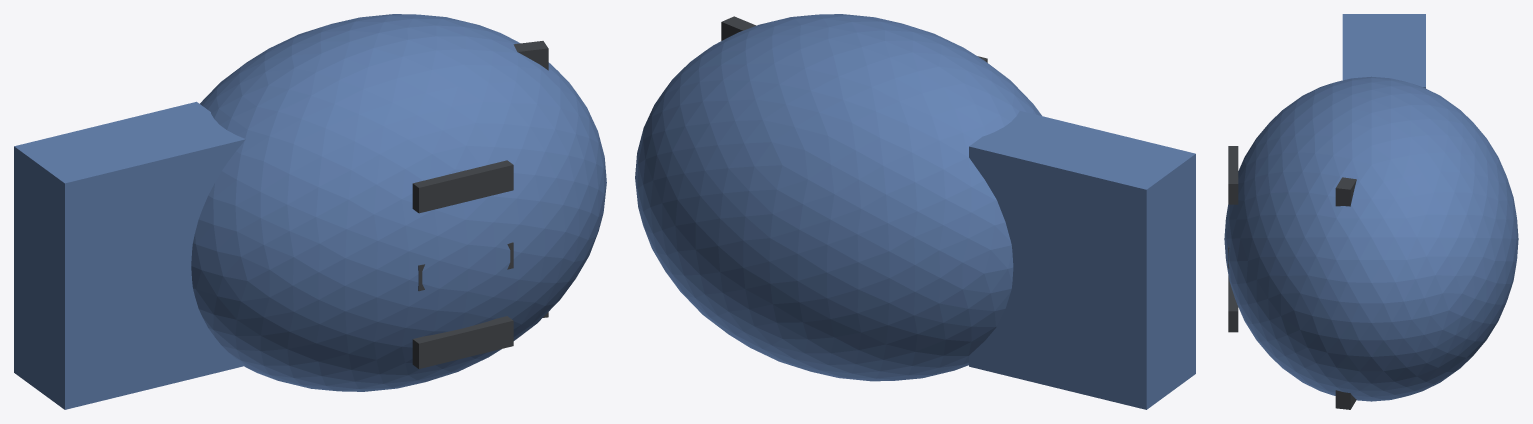
3 renders of one model, left to right at view 1: azimuth 30°, elevation 25°; view 2: azimuth 150°, elevation 25°; view 3: azimuth 270°, elevation 25°, orthographic. The views are drawn at different scales.
Visible parts, largest first — view 1: geometry_0; view 2: geometry_0; view 3: geometry_0.
Part boxes in pixels (x1,y1,x2,y2): geometry_0: (14,14,606,409); geometry_0: (635,14,1195,409); geometry_0: (1224,14,1518,409).
Size of the model in its own units: 0.4 by 0.24 by 0.23.
